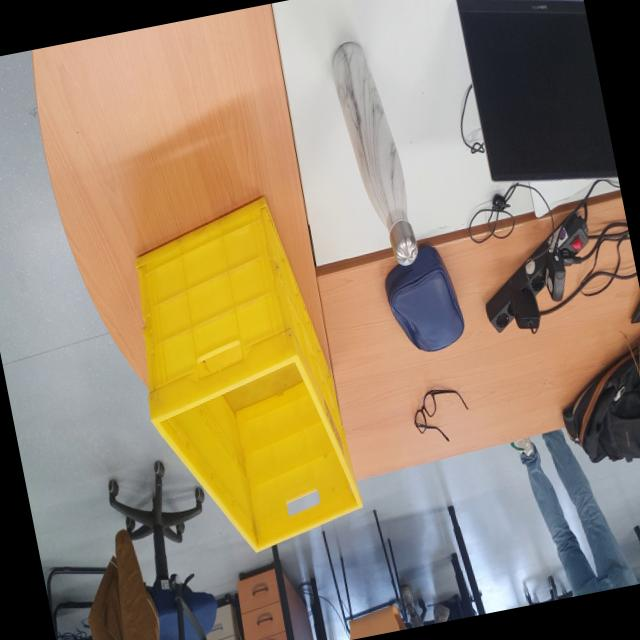box: (104, 152, 378, 590)
